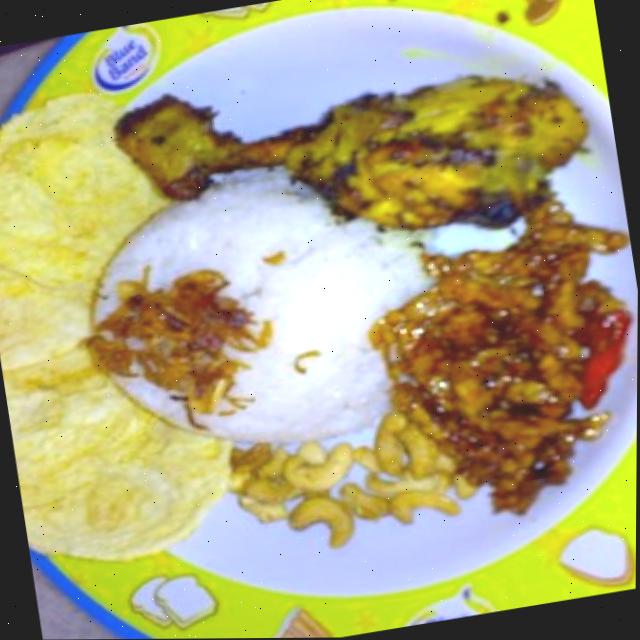米饭主食: (17, 22, 640, 591)
